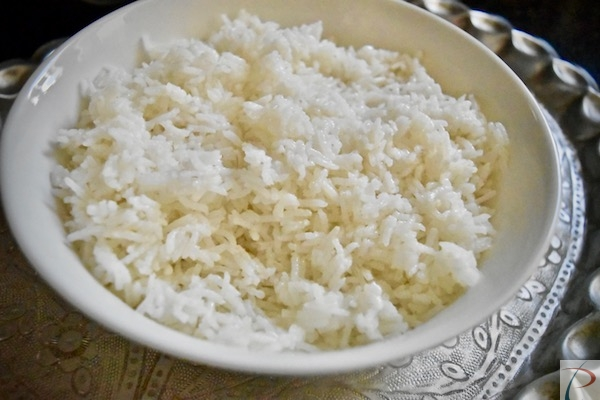plain rice: (76, 26, 478, 333)
